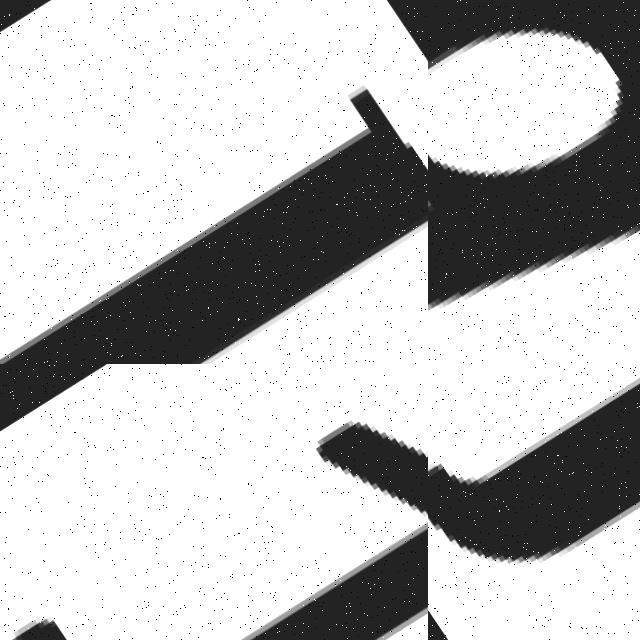1: (0, 364, 428, 640)
G: (428, 0, 640, 364)
J: (428, 364, 640, 640)
L: (0, 54, 428, 364)
